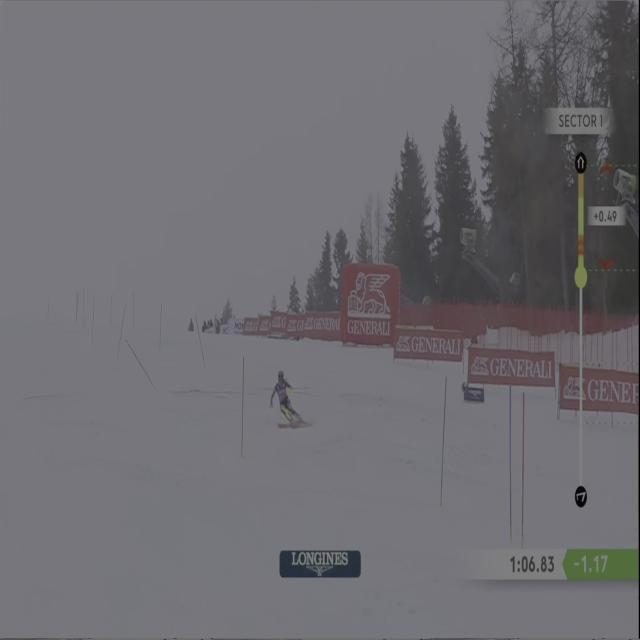gate: (433, 378, 453, 519), (515, 385, 531, 547), (233, 350, 250, 477), (502, 376, 514, 550)
